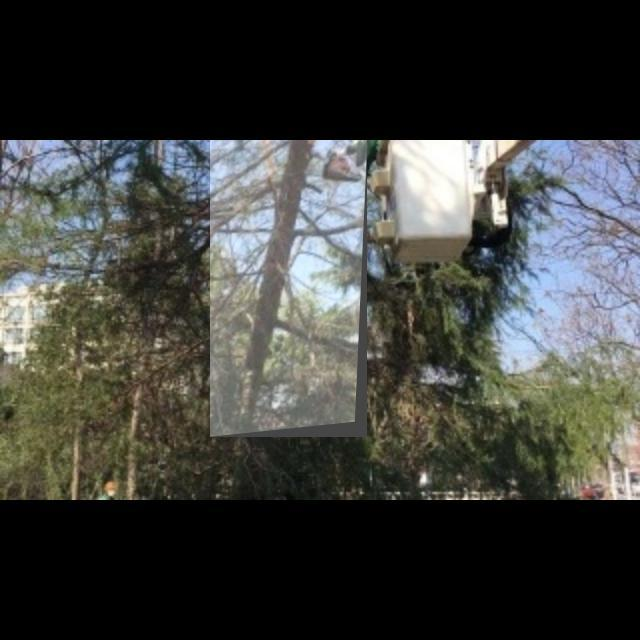fallen_tree: (210, 140, 368, 438)
